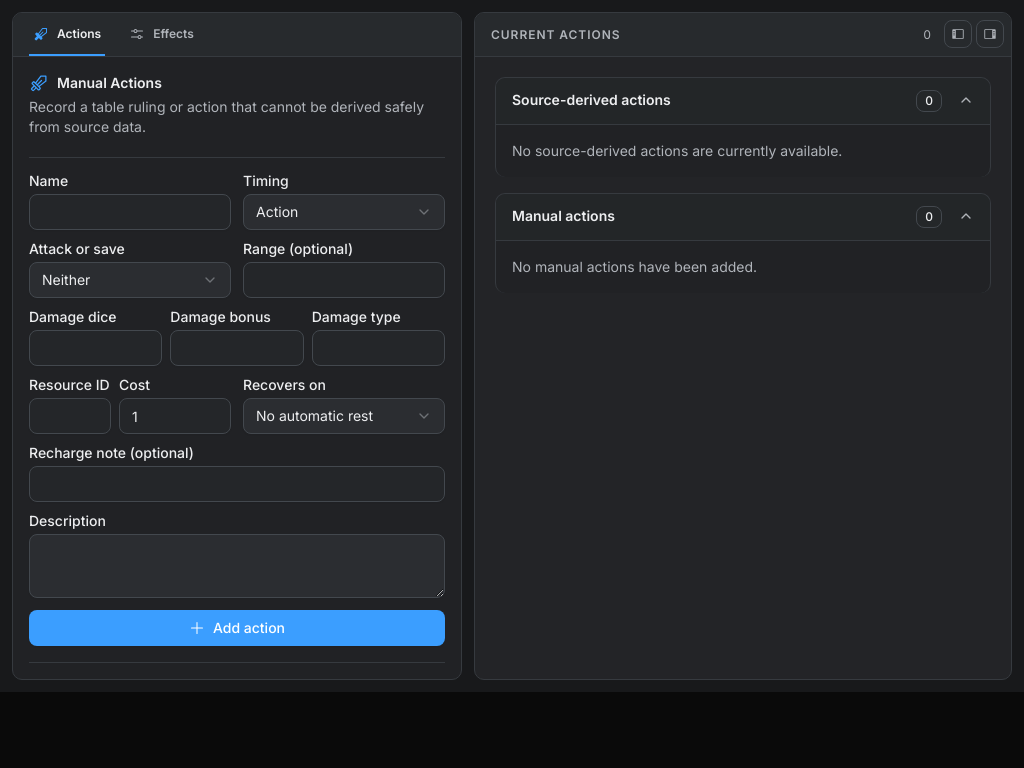
Test: AdjustmentsPage › orders Actions first, uses it by default, and collapses both action groups
Expected: the tabs read "Actions", "Effects", in this order, [29,13,105,56]; [125,13,198,56]
Expected: the heading "Manual Actions" is shown, [29,73,162,93]
Click the button "Source-derived actions 0": (591, 100) [496,78,990,124]
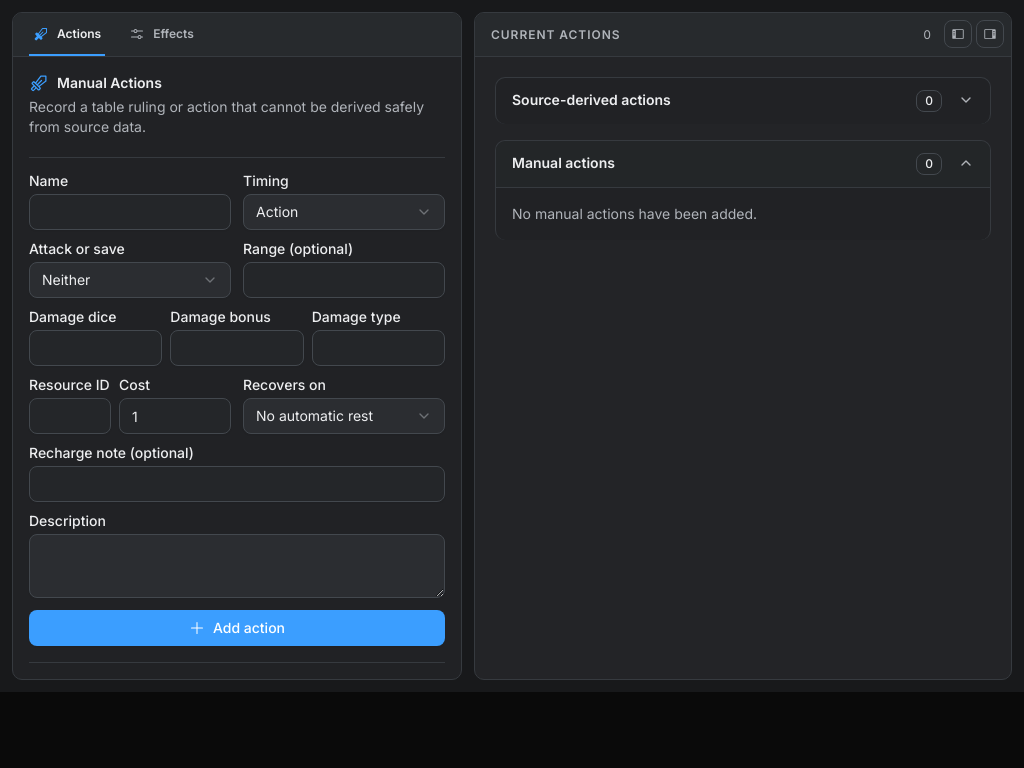
Click the button "Manual actions 0": (563, 162) [496,141,990,187]
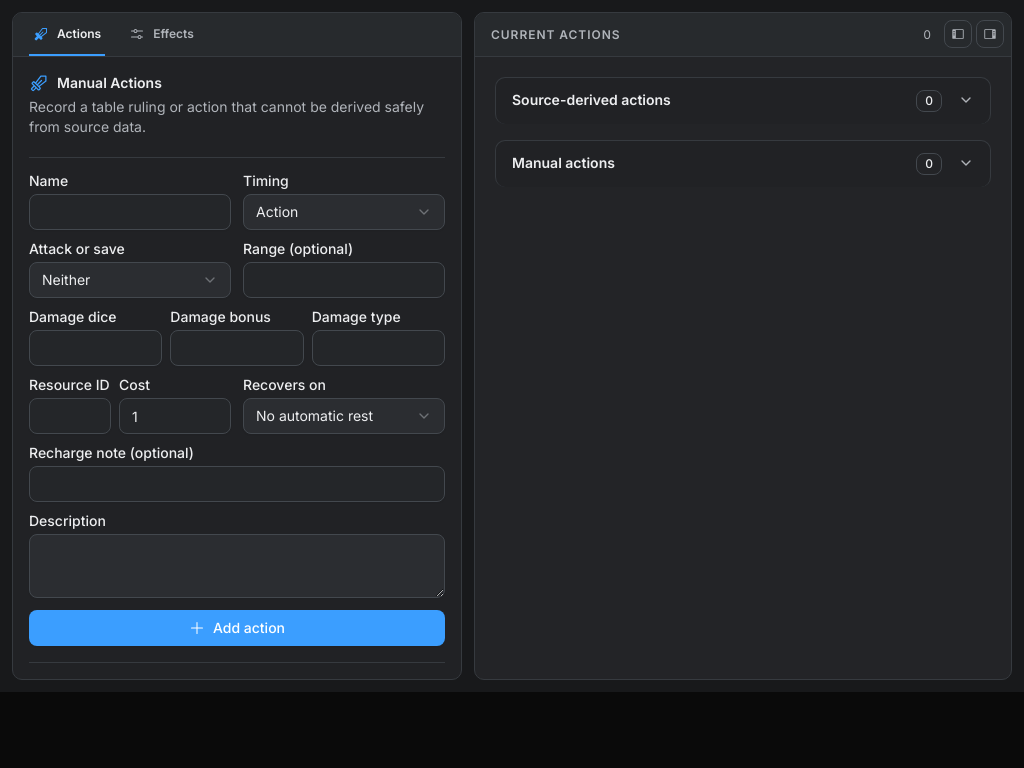
Now the button "Source-derived actions 0" is collapsed, box [496,78,990,124]
Now the button "Manual actions 0" is collapsed, box [496,141,990,187]
